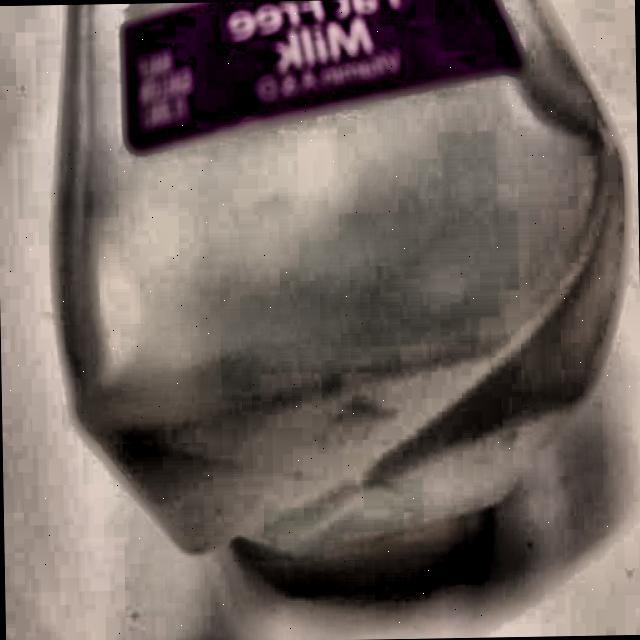plastic: (41, 0, 638, 561)
